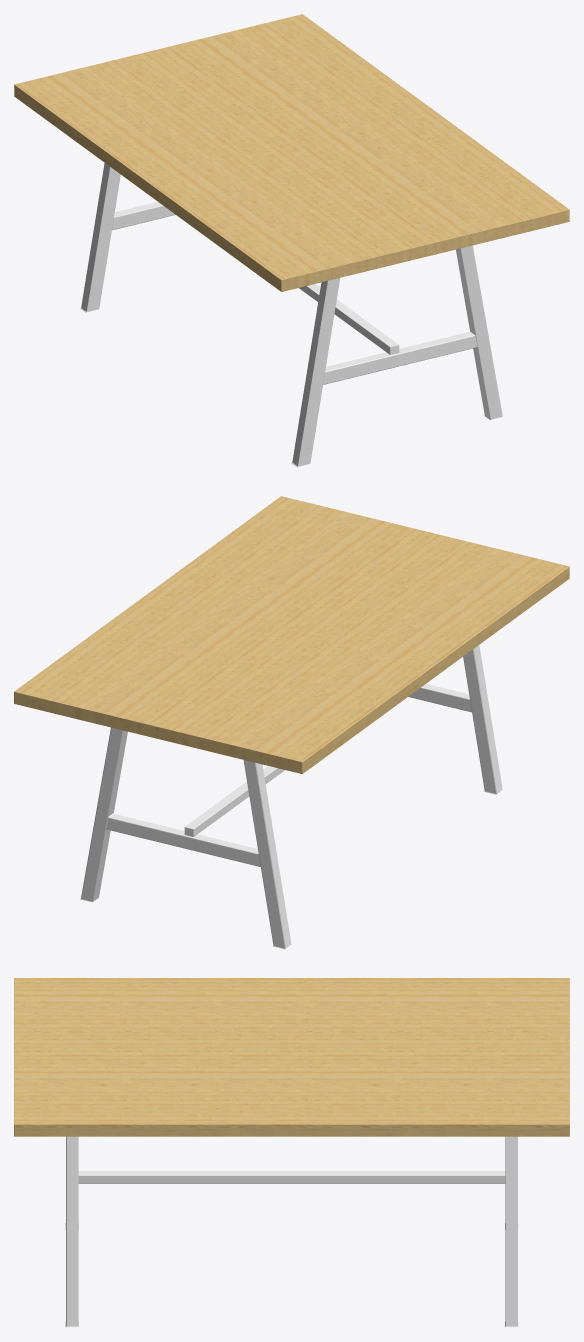
Rendered from table.glb.
The picture shows the model from 3 angles, top to bottom: view 1: azimuth 30°, elevation 25°; view 2: azimuth 150°, elevation 25°; view 3: azimuth 270°, elevation 25°; orthographic projection. The views are drawn at different scales.
Parts seen in each view (by area): view 1: Plane.000, Plane.001, Plane.006; view 2: Plane.000, Plane.001, Plane.006; view 3: Plane.000, Plane.006, Plane.001.
Part boxes in pixels (bbox=[...]): Plane.000: bbox=[14, 14, 569, 291]; Plane.001: bbox=[80, 163, 503, 467]; Plane.006: bbox=[299, 284, 399, 354]; Plane.000: bbox=[14, 496, 569, 773]; Plane.001: bbox=[80, 645, 503, 949]; Plane.006: bbox=[184, 766, 284, 836]; Plane.000: bbox=[14, 978, 569, 1136]; Plane.006: bbox=[78, 1171, 505, 1183]; Plane.001: bbox=[65, 1136, 518, 1327].
Bounding box in the file's own units: 1 × 0.7144 × 1.6.
2 materials, 1 textured.
